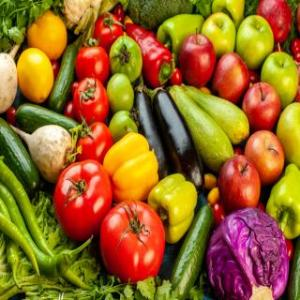bell_pepper: (104, 128, 158, 202), (153, 168, 197, 238), (270, 156, 300, 238)
cucumber: (166, 200, 214, 296), (0, 120, 40, 190), (14, 100, 82, 138), (54, 40, 76, 110)
eggplant: (152, 83, 204, 193), (136, 74, 170, 183)
tomato: (102, 198, 166, 278), (54, 158, 112, 240), (74, 80, 110, 122), (78, 123, 110, 165), (78, 45, 110, 85), (98, 14, 124, 44)
zucchini: (171, 81, 233, 169), (184, 81, 250, 143)
